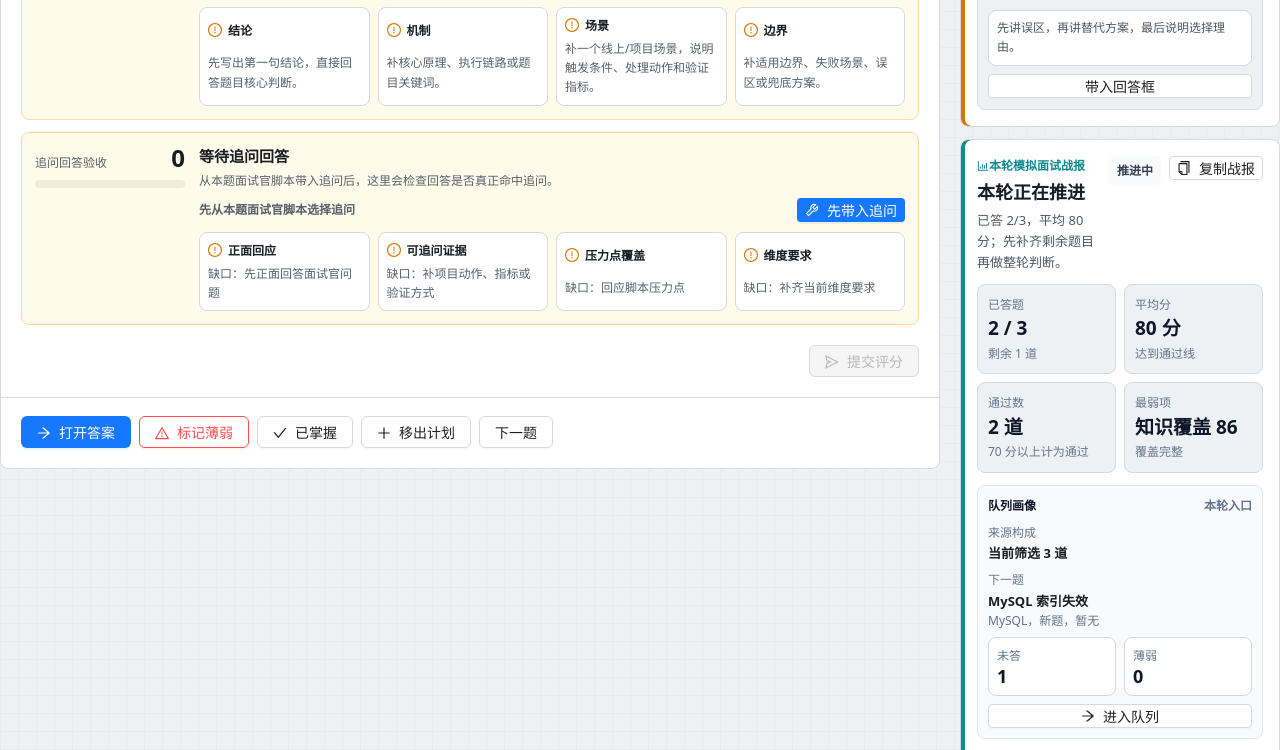
Test: Practice page answer draft lifecycle › moves to the next unanswered question instead of cycling through already scored questions
(page scrolled)
Click the button "下一题" at x=516, y=432, box [479,416,553,448]
(page scrolled)
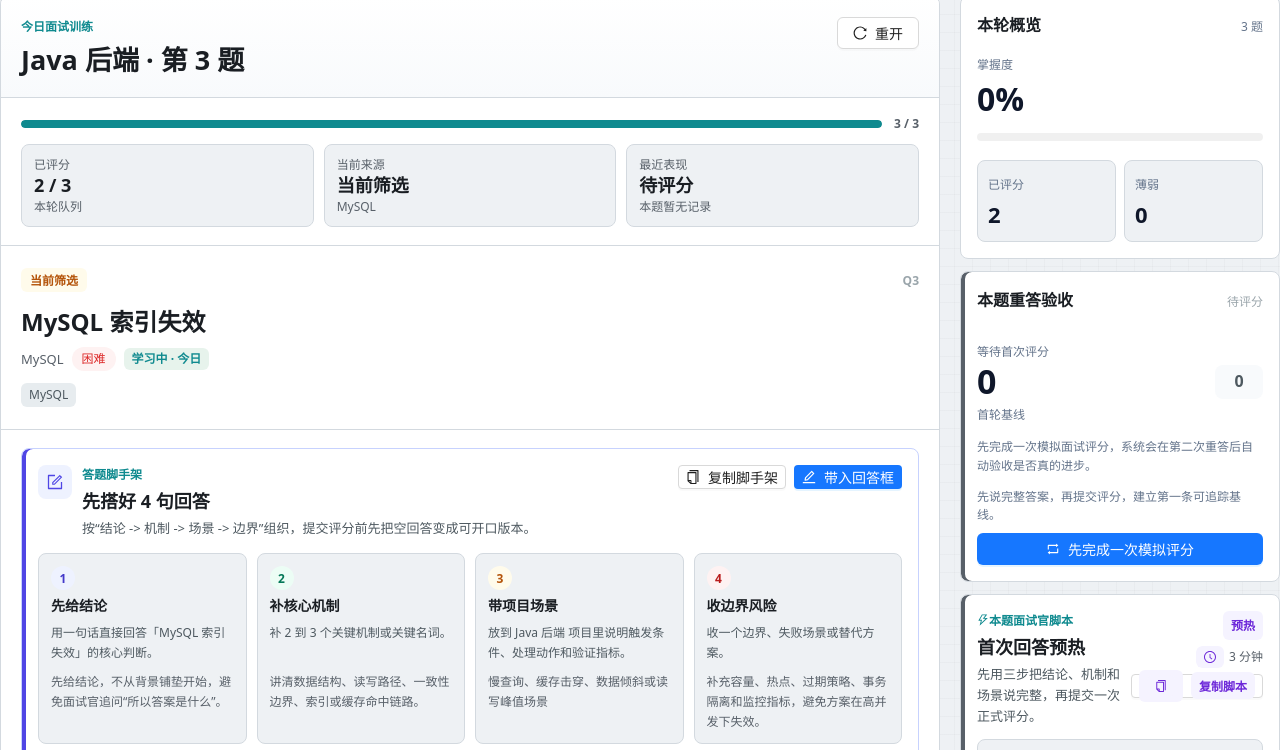
Expected: the heading "Java 后端 · 第 3 题" is shown, [21,42,244,77]
Expected: the heading "MySQL 索引失效" is shown, [21,305,205,338]
